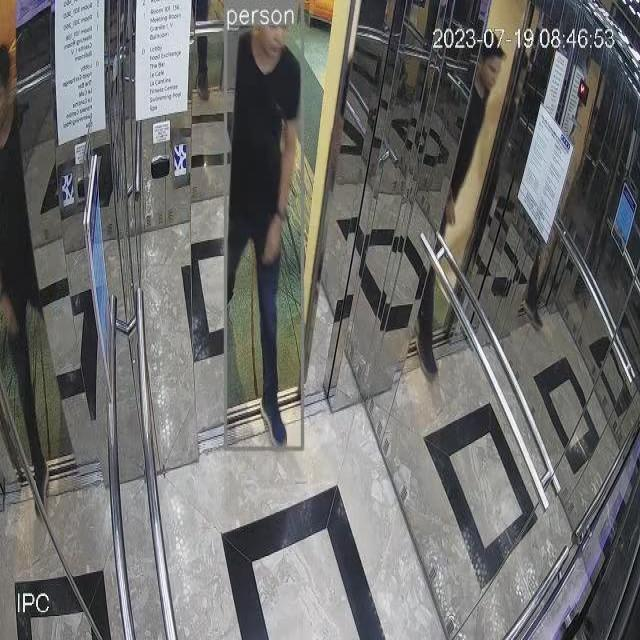person: (223, 8, 302, 447), (433, 41, 509, 388)
